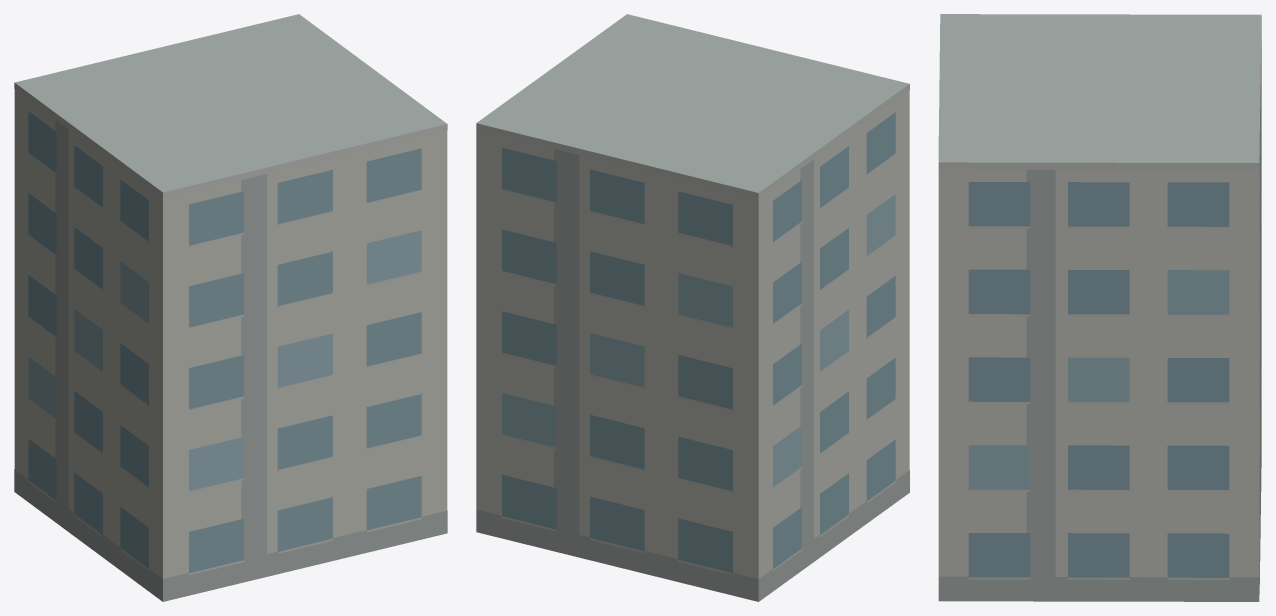
Rendered from residential-111e2043-d3a8-4401-a115-5b218cafc2e7.glb.
3 views of the same model, side by side, from view 1: azimuth 30°, elevation 25°; view 2: azimuth 150°, elevation 25°; view 3: azimuth 270°, elevation 25° (orthographic). The views are drawn at different scales.
Parts seen in each view (by area): view 1: residential-111e2043-d3a8-4401-a115-5b218cafc2e7.tmp; view 2: residential-111e2043-d3a8-4401-a115-5b218cafc2e7.tmp; view 3: residential-111e2043-d3a8-4401-a115-5b218cafc2e7.tmp.
Part boxes in pixels (box(x1,y1,x2,y2)): residential-111e2043-d3a8-4401-a115-5b218cafc2e7.tmp: box(14, 14, 447, 601); residential-111e2043-d3a8-4401-a115-5b218cafc2e7.tmp: box(476, 14, 909, 601); residential-111e2043-d3a8-4401-a115-5b218cafc2e7.tmp: box(938, 14, 1261, 601).
Size of the model in its own units: 11.13 by 15.25 by 10.19.
